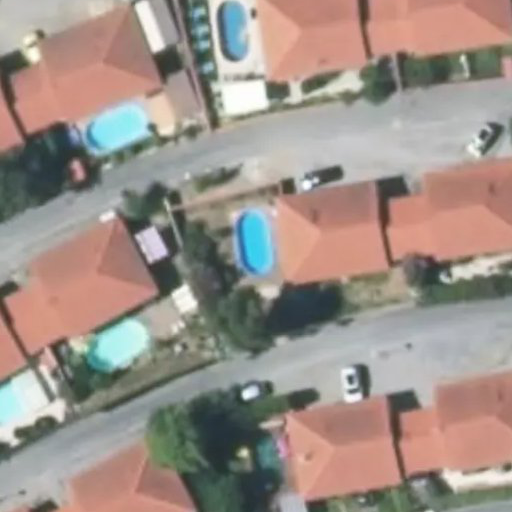pool: (236, 214, 275, 269)
